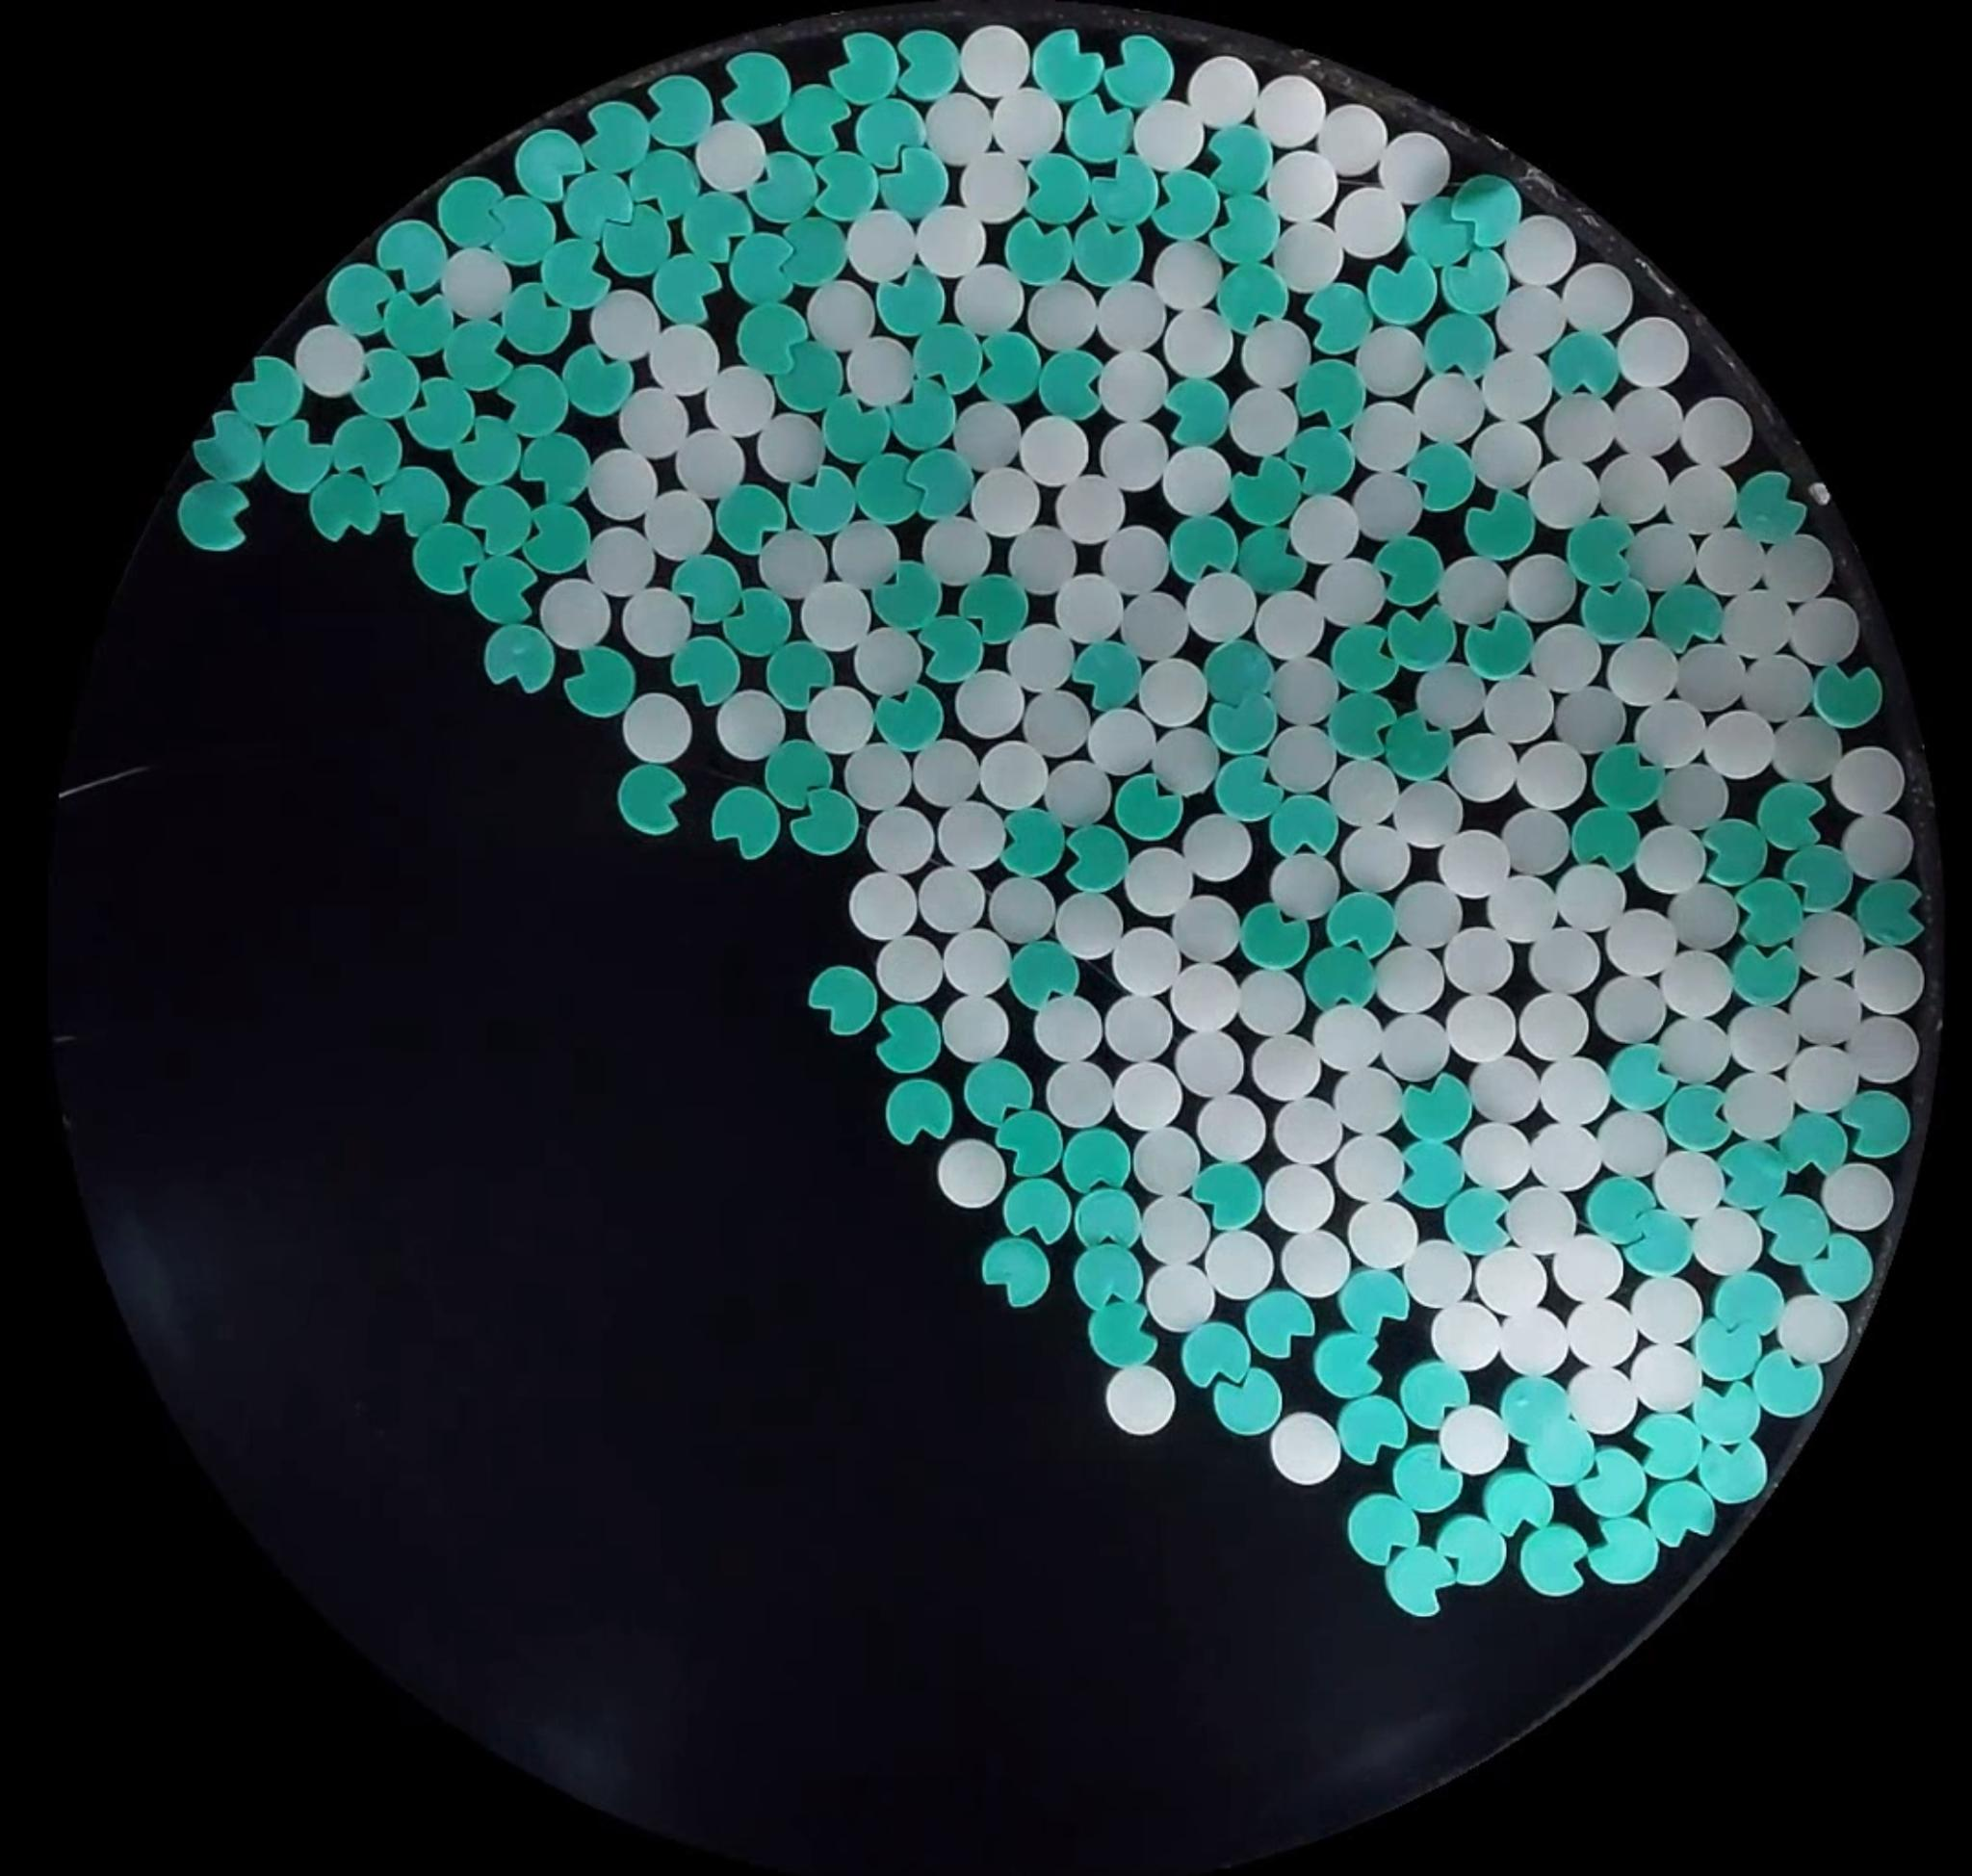no-convexa1: (460, 349, 579, 442), (474, 188, 572, 294), (1319, 1259, 1416, 1362), (445, 465, 539, 564), (843, 442, 935, 539), (662, 543, 750, 641), (872, 370, 960, 467), (377, 368, 482, 447), (620, 137, 711, 225), (673, 185, 759, 277), (555, 164, 644, 250), (1178, 638, 1280, 713), (1389, 435, 1483, 518), (1227, 520, 1313, 604), (748, 148, 836, 231), (1379, 703, 1460, 793), (782, 76, 866, 160), (729, 587, 810, 673), (405, 516, 491, 597), (1185, 1312, 1264, 1400), (1727, 465, 1815, 544), (949, 329, 1039, 407), (782, 447, 856, 541), (773, 342, 849, 432), (498, 495, 590, 569), (775, 208, 856, 291), (657, 627, 736, 712), (1072, 1185, 1152, 1268), (1060, 636, 1141, 713), (1446, 171, 1523, 250), (875, 143, 954, 220), (544, 240, 622, 319), (912, 446, 982, 532), (377, 472, 463, 543), (1403, 1356, 1475, 1439), (729, 227, 796, 315), (1389, 597, 1461, 678), (914, 606, 984, 689), (440, 421, 518, 495), (1347, 678, 1403, 779), (768, 638, 836, 719), (500, 277, 565, 361), (1365, 254, 1439, 328), (176, 479, 250, 553), (1208, 190, 1280, 266), (1446, 236, 1518, 312), (1076, 217, 1148, 292), (1389, 1437, 1460, 1515), (1711, 1270, 1785, 1342), (1347, 1494, 1421, 1566), (1655, 581, 1729, 654), (1301, 282, 1372, 358), (1405, 192, 1475, 268), (1005, 225, 1081, 296), (655, 250, 717, 336), (1525, 1418, 1590, 1499), (1840, 1089, 1912, 1161), (563, 646, 636, 719), (715, 483, 787, 555), (1761, 1194, 1833, 1267), (1424, 310, 1497, 382), (467, 553, 539, 625), (1336, 1392, 1409, 1464), (1312, 1326, 1384, 1399), (710, 787, 782, 860), (310, 470, 382, 543), (1034, 26, 1104, 100), (1659, 1082, 1733, 1152), (1303, 941, 1377, 1011), (331, 412, 401, 486), (808, 153, 884, 222), (375, 218, 447, 289), (602, 206, 673, 278), (1729, 937, 1801, 1008), (1090, 155, 1160, 227), (1217, 262, 1287, 335), (738, 303, 808, 375), (514, 130, 586, 201), (1548, 329, 1620, 400), (616, 764, 687, 837), (1856, 875, 1926, 948), (1606, 1041, 1678, 1112), (195, 412, 266, 484), (1384, 1547, 1454, 1619), (1402, 1071, 1472, 1143), (1483, 1467, 1555, 1538), (484, 622, 555, 694), (1694, 1325, 1764, 1397), (831, 30, 900, 104), (722, 49, 791, 123), (1285, 423, 1352, 499), (822, 388, 886, 467), (1152, 171, 1222, 241), (1717, 1140, 1787, 1210), (1581, 574, 1652, 645), (1564, 516, 1634, 587), (437, 180, 507, 250), (1194, 1163, 1264, 1233), (1593, 742, 1664, 812), (232, 356, 303, 426), (1755, 780, 1826, 851), (1571, 798, 1641, 868), (1519, 1525, 1590, 1596), (1440, 1185, 1511, 1256), (1240, 902, 1310, 972), (1245, 1289, 1315, 1360), (1734, 877, 1805, 948), (806, 967, 877, 1038), (1375, 535, 1444, 608), (1752, 1349, 1824, 1418), (1106, 35, 1174, 107), (352, 349, 421, 421), (264, 423, 333, 495), (1398, 1138, 1467, 1210), (1803, 1233, 1875, 1302), (438, 315, 511, 384), (1620, 1210, 1694, 1277), (1065, 93, 1134, 164), (1204, 127, 1273, 197), (877, 268, 946, 338), (1331, 625, 1400, 696), (1231, 460, 1301, 528), (1035, 349, 1104, 419), (1023, 155, 1092, 225), (1784, 842, 1852, 912), (914, 324, 982, 395), (386, 287, 454, 358), (644, 76, 713, 146), (1697, 1437, 1768, 1506), (1326, 891, 1396, 960), (873, 1004, 942, 1075), (1780, 1110, 1851, 1178), (1465, 490, 1534, 560), (981, 1238, 1049, 1309), (1113, 773, 1183, 842), (1007, 939, 1078, 1008), (1645, 1478, 1715, 1547), (1812, 662, 1882, 731), (1465, 609, 1532, 682), (1586, 1518, 1659, 1585), (1215, 754, 1284, 823), (960, 574, 1028, 643), (875, 685, 944, 754), (1701, 817, 1770, 886), (1296, 359, 1365, 428), (1634, 1413, 1703, 1481), (965, 1060, 1034, 1129), (792, 787, 861, 856), (1586, 1175, 1655, 1244), (1169, 514, 1240, 581), (583, 102, 650, 173), (998, 810, 1065, 881), (327, 266, 394, 336), (1692, 1379, 1759, 1450), (875, 564, 942, 632), (1269, 794, 1338, 861), (1579, 1450, 1646, 1518), (1208, 689, 1277, 756), (1164, 379, 1231, 447), (1213, 1369, 1282, 1436), (1062, 824, 1129, 893), (884, 1078, 951, 1147), (852, 93, 923, 159), (1088, 1304, 1155, 1370), (1004, 1177, 1071, 1244), (1439, 1518, 1505, 1585), (894, 28, 960, 97), (1063, 1127, 1132, 1193), (1324, 891, 1394, 955), (766, 742, 833, 807), (1076, 1244, 1143, 1309), (997, 1112, 1062, 1178), (562, 349, 630, 410), (1504, 1379, 1565, 1446), (523, 433, 579, 504)
